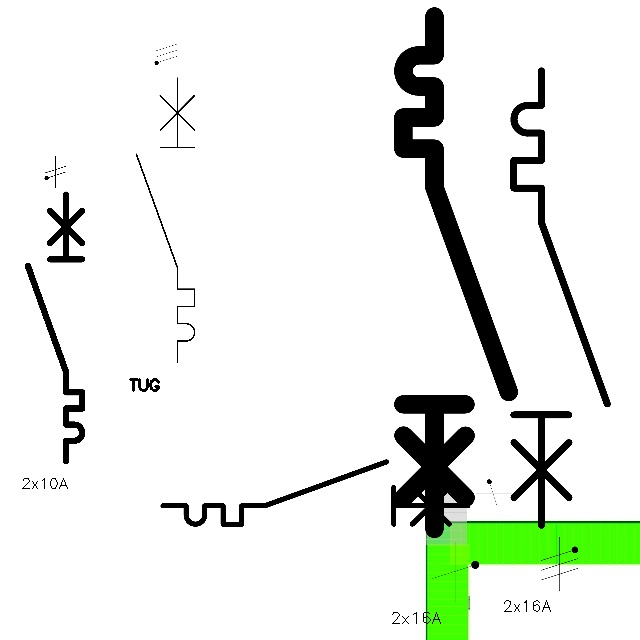interruptor_termomagnetico: (390, 3, 522, 542), (502, 59, 619, 537), (155, 454, 475, 532), (129, 70, 202, 369), (21, 187, 89, 467)
